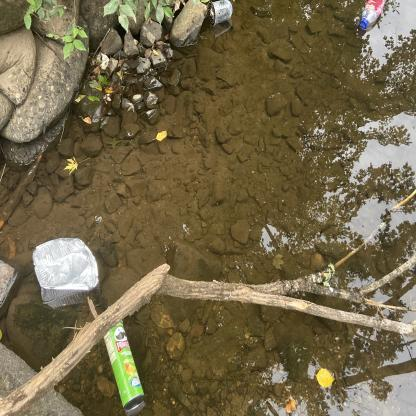trash: (30, 231, 104, 302), (100, 312, 151, 414), (357, 0, 392, 35), (200, 0, 236, 31)
